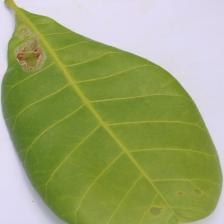leaf miner: (0, 0, 223, 223), (13, 37, 46, 73)
